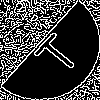T: (25, 25, 84, 79)
